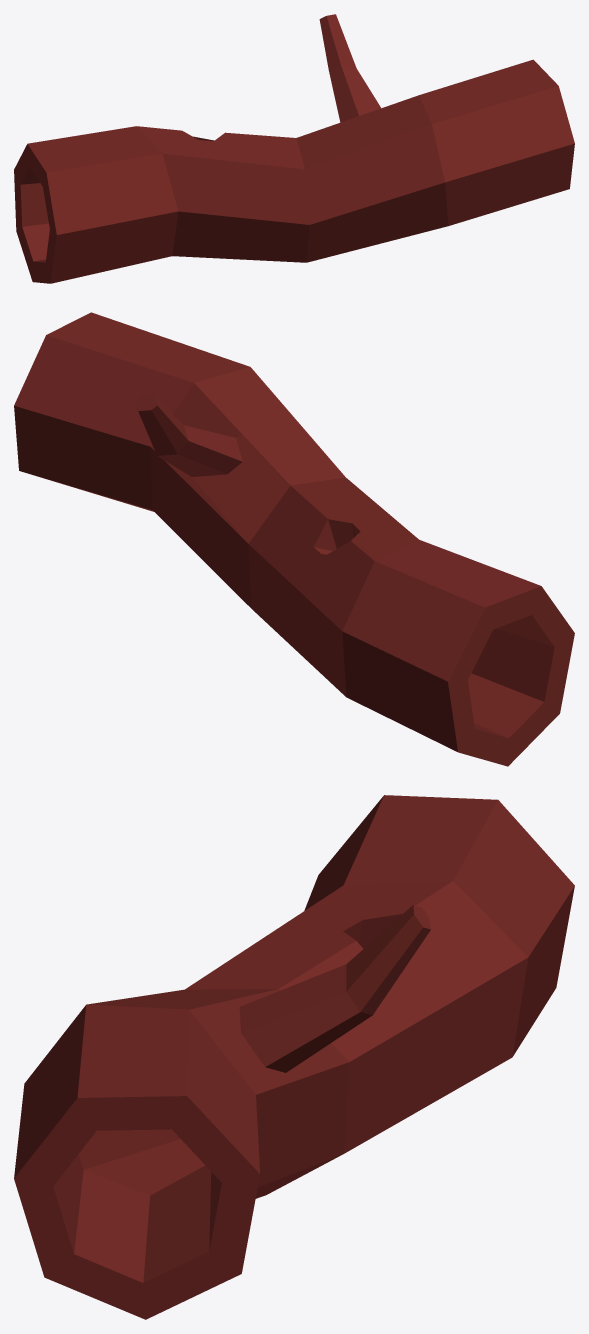
Rendered from HardwoodNode.fbx.
3 renders of one model, top to bottom at view 1: azimuth 30°, elevation 25°; view 2: azimuth 150°, elevation 25°; view 3: azimuth 270°, elevation 25°, orthographic. The views are drawn at different scales.
Visible parts, largest first — view 1: Cube; view 2: Cube; view 3: Cube.
Boxes of the visible parts, x1=… form: Cube: x1=14, y1=14, x2=574, y2=283; Cube: x1=14, y1=312, x2=574, y2=766; Cube: x1=14, y1=795, x2=574, y2=1319.
Size of the model in its own units: 71.87 by 31.69 by 42.72.
